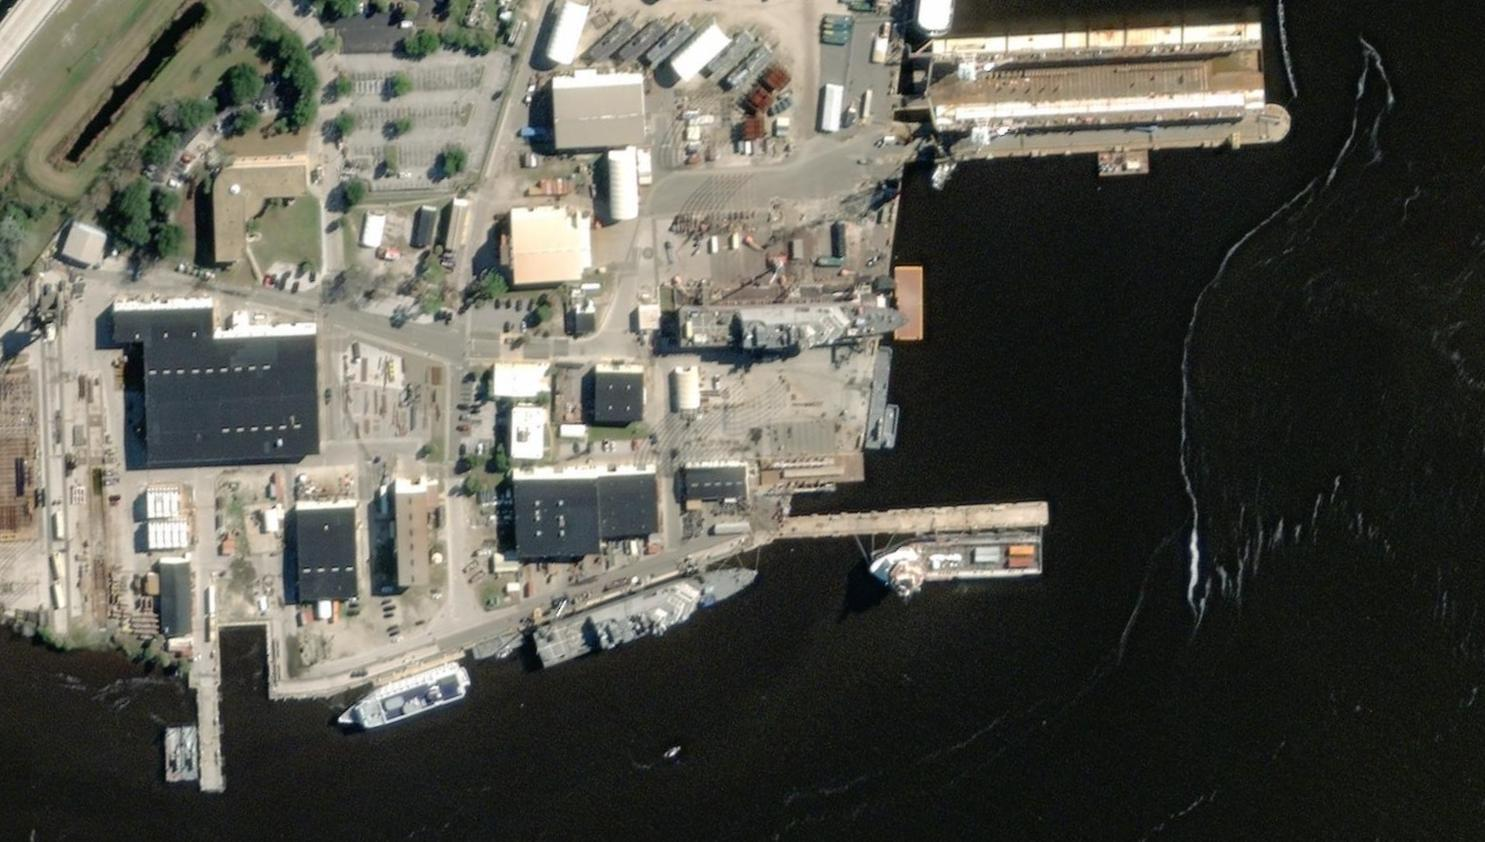patrol: (523, 554, 763, 681), (670, 292, 912, 356)
